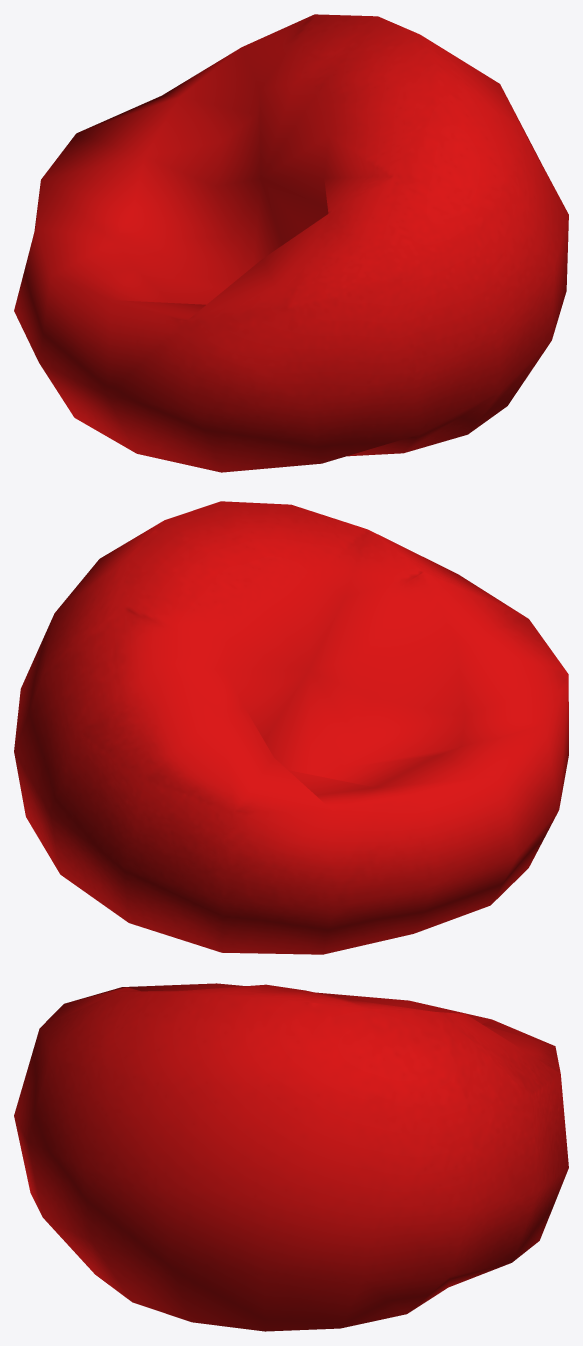
The model's file is Prop_114_Beanbag.fbx.
3 renders of one model, top to bottom at view 1: azimuth 30°, elevation 25°; view 2: azimuth 150°, elevation 25°; view 3: azimuth 270°, elevation 25°, orthographic. The views are drawn at different scales.
Parts seen in each view (by area): view 1: Prop_114_Beanbag; view 2: Prop_114_Beanbag; view 3: Prop_114_Beanbag.
Boxes of the visible parts, x1=… form: Prop_114_Beanbag: x1=14, y1=14, x2=568, y2=472; Prop_114_Beanbag: x1=14, y1=501, x2=568, y2=954; Prop_114_Beanbag: x1=14, y1=983, x2=568, y2=1331.
Bounding box in the file's own units: 0.9491 × 0.5872 × 0.9861.
Materials: 1 (1 with a texture image).
